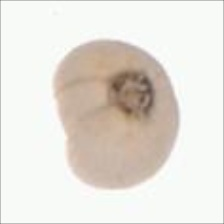L5: (98, 65, 162, 123), (50, 74, 109, 130)
L6: (52, 36, 183, 193)
